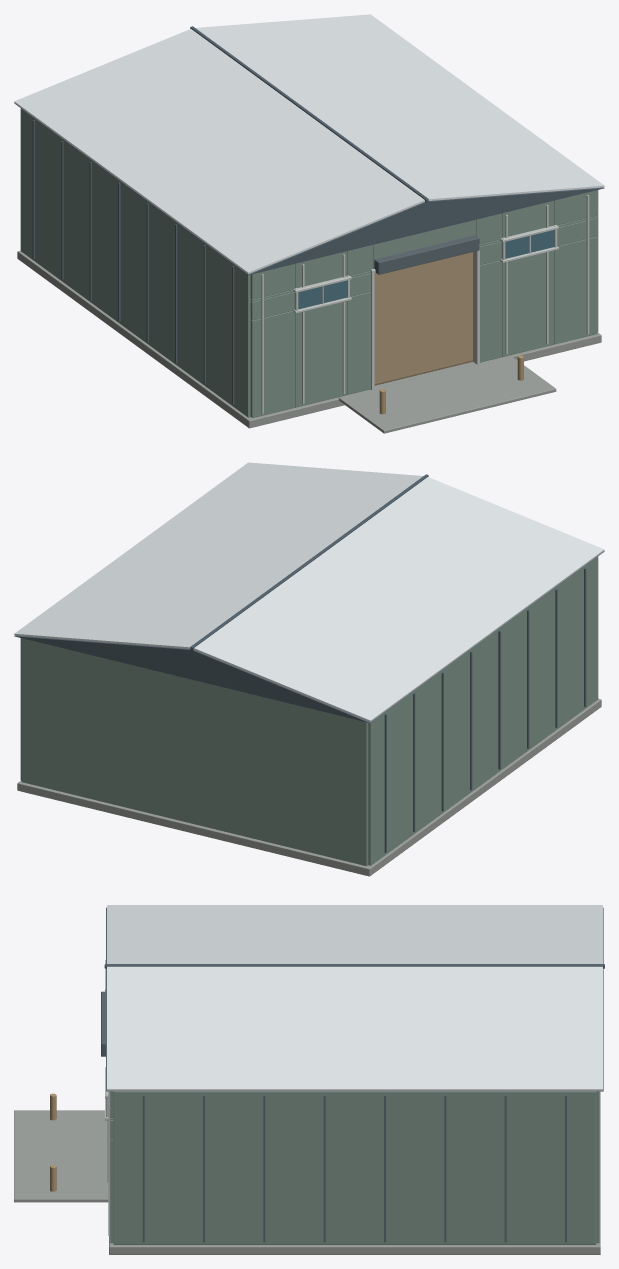
Rendered from utility_workshop.glb.
3 renders of one model, top to bottom at view 1: azimuth 30°, elevation 25°; view 2: azimuth 150°, elevation 25°; view 3: azimuth 270°, elevation 25°, orthographic. The views are drawn at different scales.
Visible parts, largest first — view 1: utility_workshop; view 2: utility_workshop; view 3: utility_workshop.
Part boxes in pixels (x1=…): utility_workshop: x1=14, y1=14, x2=604, y2=433; utility_workshop: x1=14, y1=462, x2=604, y2=876; utility_workshop: x1=14, y1=905, x2=604, y2=1254.
Bounding box in the file's own units: 14.46 × 7.29 × 19.59.
